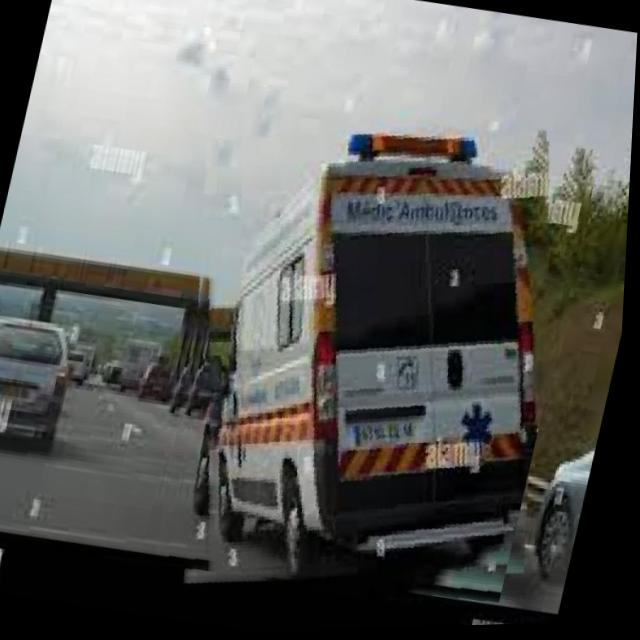ambulance: (132, 88, 606, 627)
